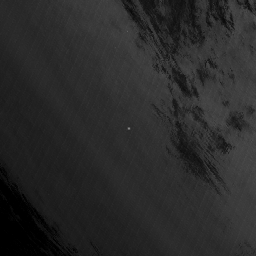Target: (126, 125, 132, 132)
